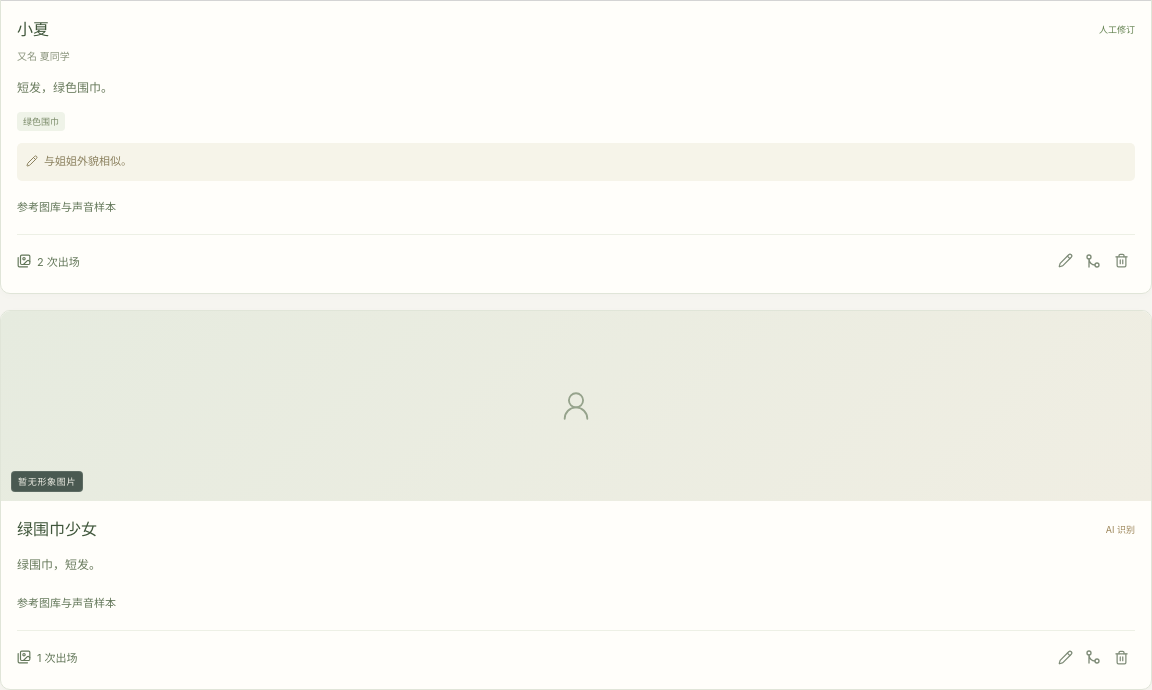
Test: Cross-shot character dossiers › previews merge direction and excludes the source character from the destination choices
The image size is (1152, 690).
(page scrolled)
Click the button named "合并绿围巾少女的档案" at (1093, 657), box [1079, 641, 1107, 673]
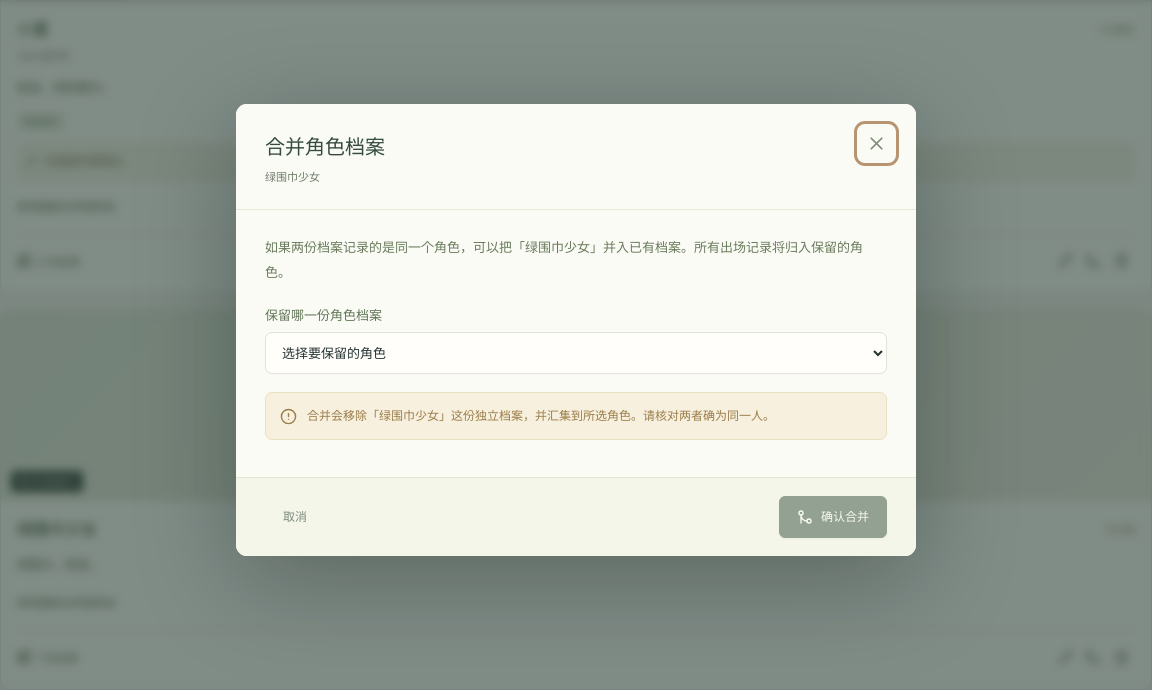
Result: the button "确认合并" is disabled at [779, 496, 887, 538]
Select "小夏 · 2 次出场" in the dropdown labelled "保留哪一份角色档案" at (576, 353), box [265, 332, 887, 374]
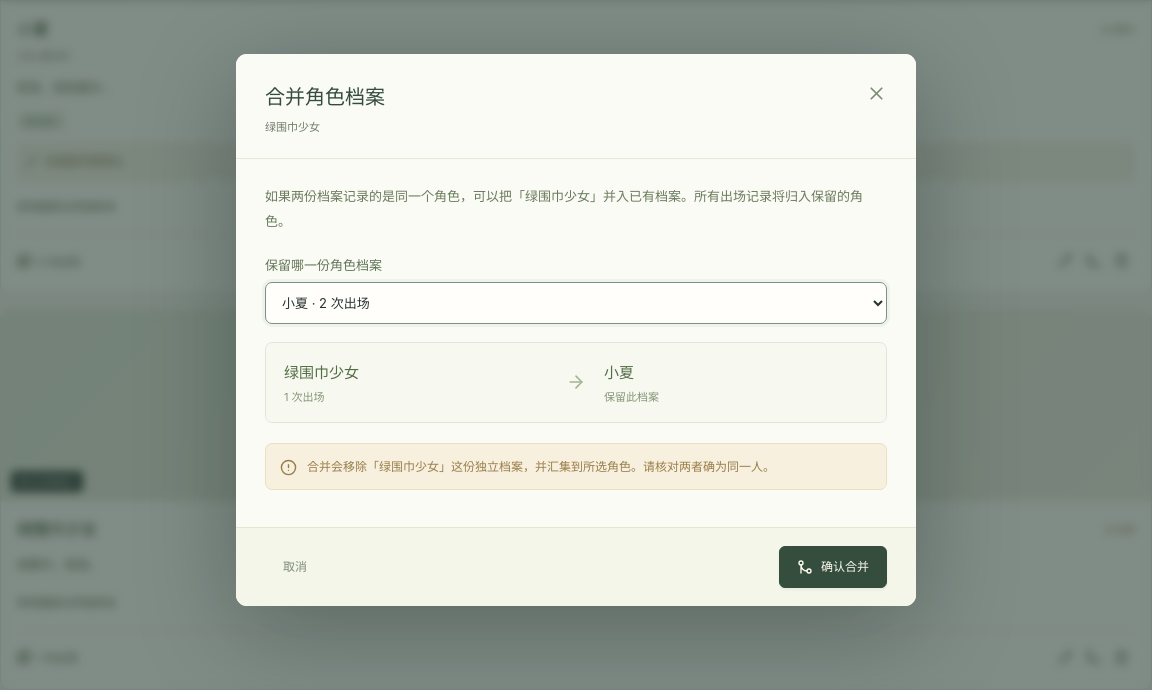
Result: the text "保留此档案" is shown at [604, 390, 659, 404]
Click the button "确认合并" at (833, 567), box [779, 546, 887, 588]
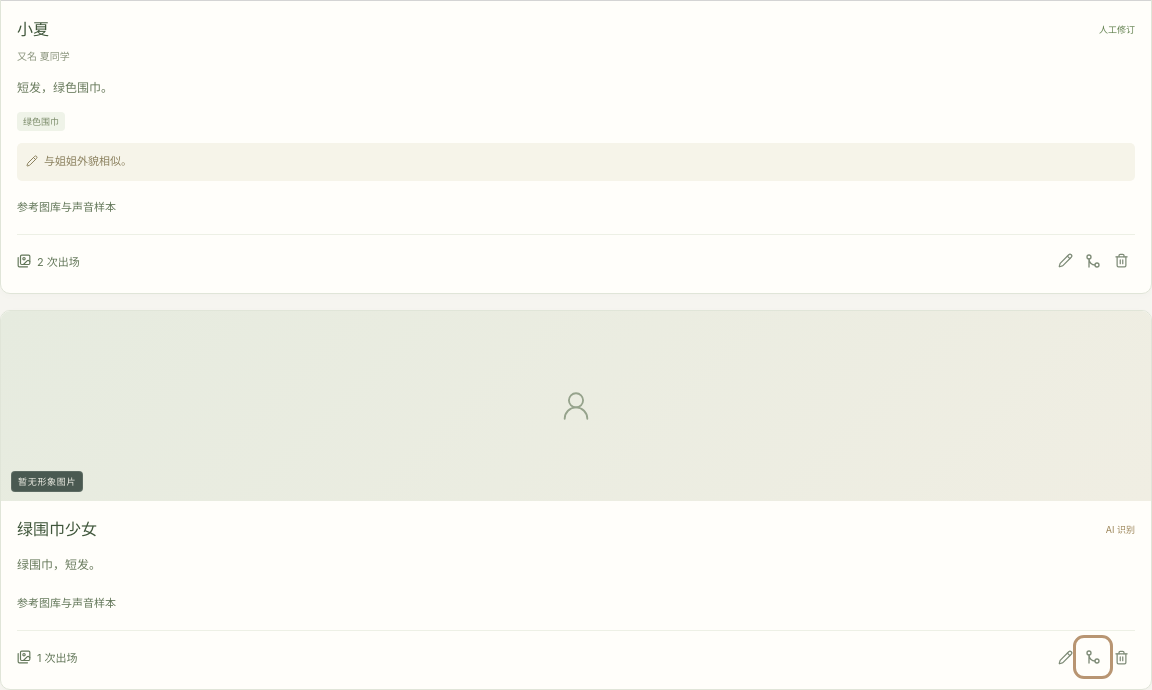
Result: the dialog is gone
